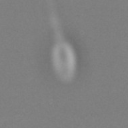normal: (39, 1, 78, 40)
